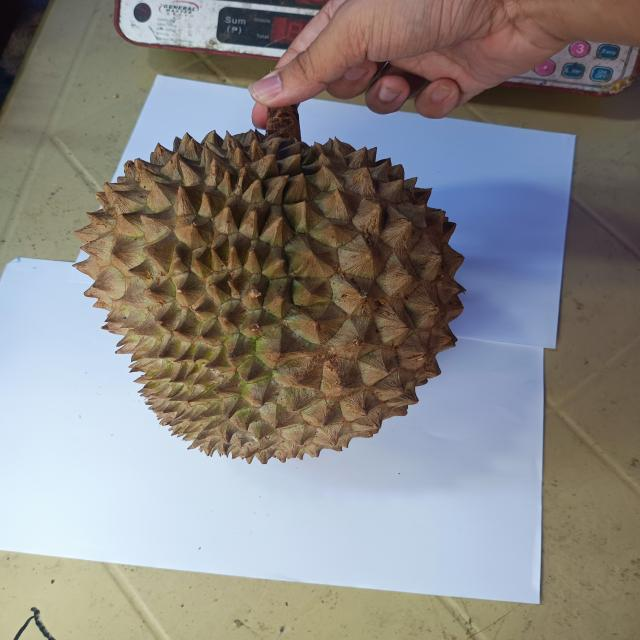mature: (76, 131, 463, 463)
